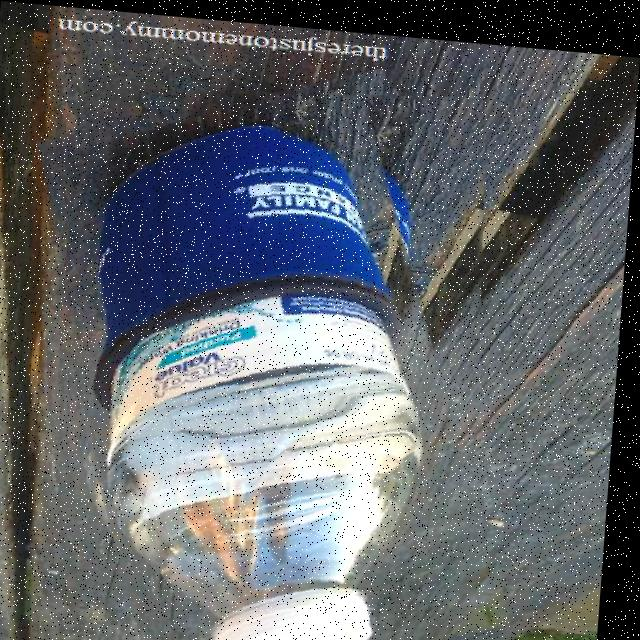plasticbottle: (47, 60, 513, 640)
plasticbottlecap: (114, 540, 385, 640)
